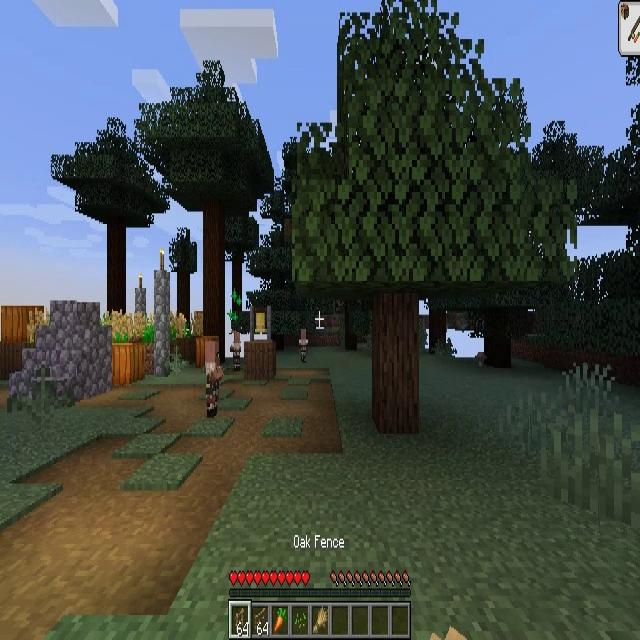people: (205, 340, 223, 416), (230, 333, 242, 371), (299, 330, 308, 361)
